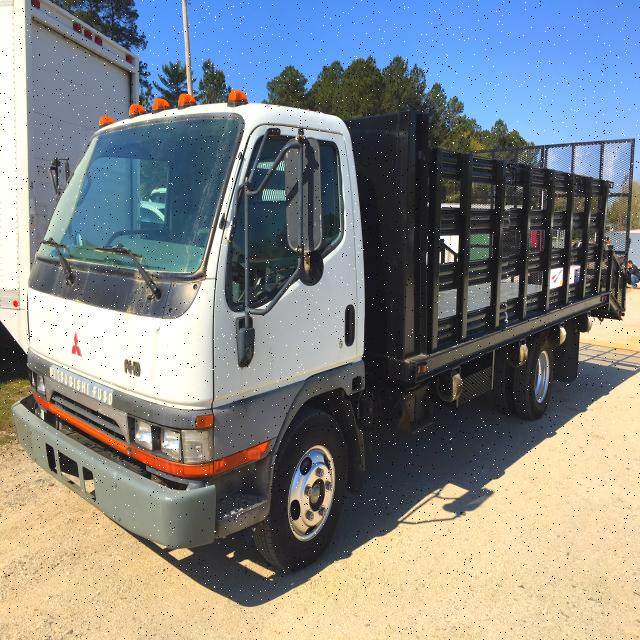truck: (13, 83, 634, 574)
